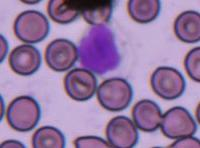M: (76, 22, 128, 76)
